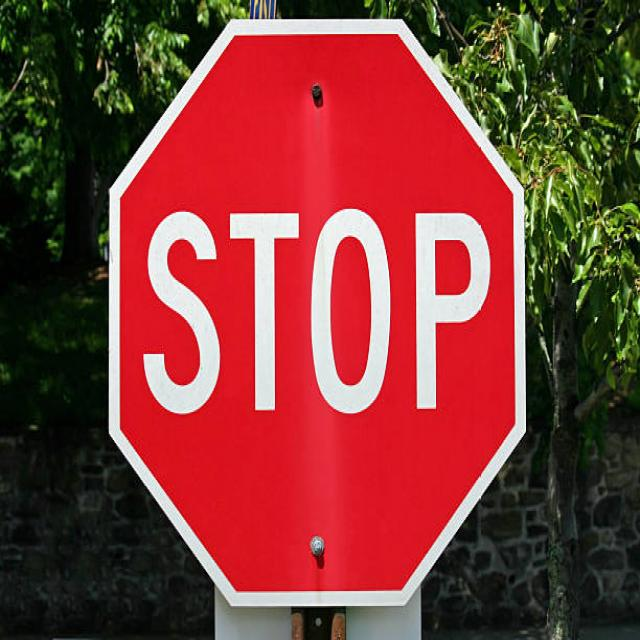stop: (100, 11, 534, 615)
